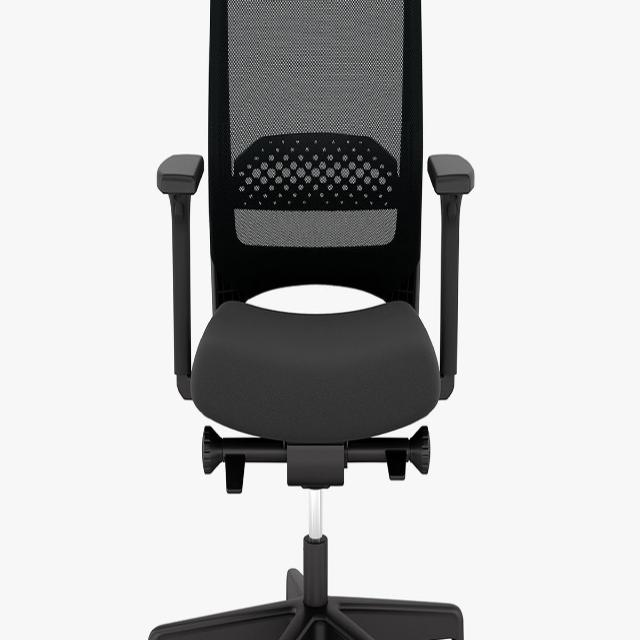chair: (150, 0, 475, 638)
